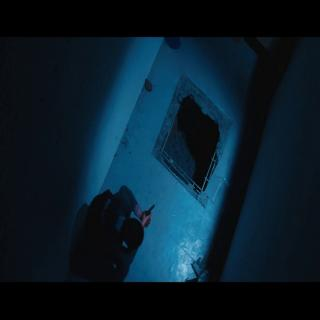gun: (143, 201, 155, 227)
